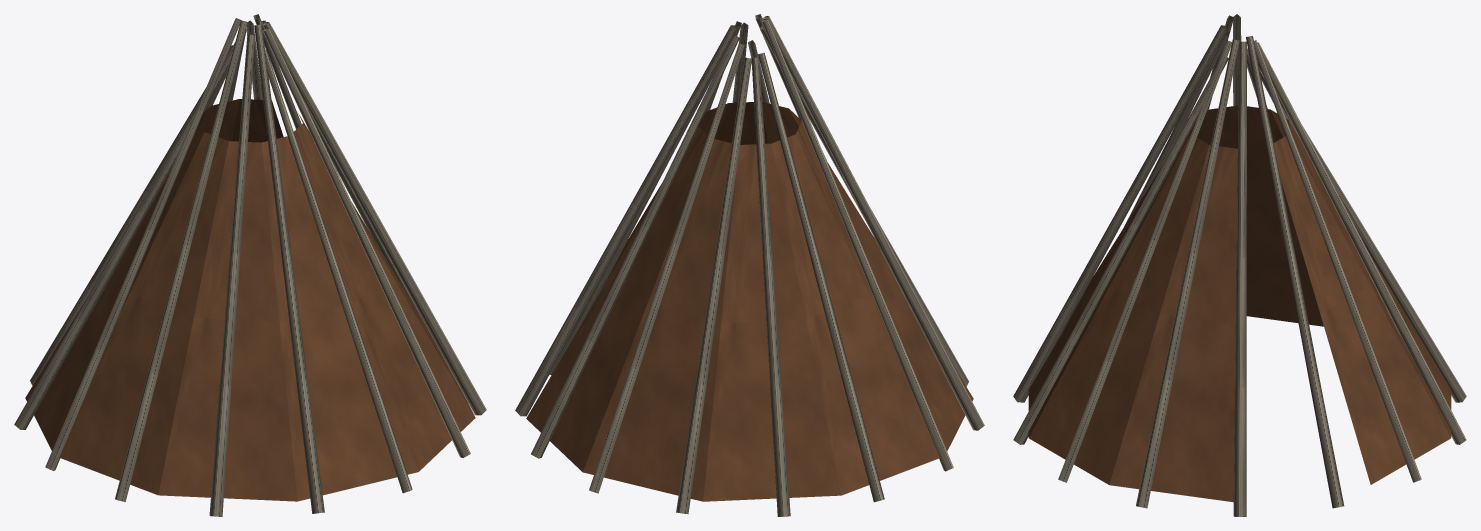
The model's file is Hut_Branch_1.gltf.
3 renders of one model, left to right at view 1: azimuth 30°, elevation 25°; view 2: azimuth 150°, elevation 25°; view 3: azimuth 270°, elevation 25°, orthographic.
Visible parts, largest first — view 1: Hut_Branch_1; view 2: Hut_Branch_1; view 3: Hut_Branch_1.
Boxes of the visible parts, bbox=[...] form: Hut_Branch_1: bbox=[14, 14, 486, 516]; Hut_Branch_1: bbox=[515, 14, 984, 516]; Hut_Branch_1: bbox=[1013, 14, 1466, 516].
Size of the model in its own units: 3.59 by 3.42 by 3.5.
2 materials, 2 textured.
